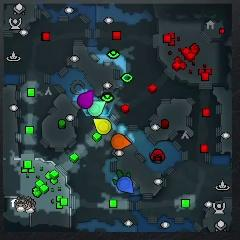p1: (117, 176, 133, 193)
p2: (88, 100, 107, 117)
p3: (78, 89, 94, 109)
p4: (93, 119, 111, 134)
p5: (111, 133, 133, 150)
x4: (113, 169, 130, 185)
